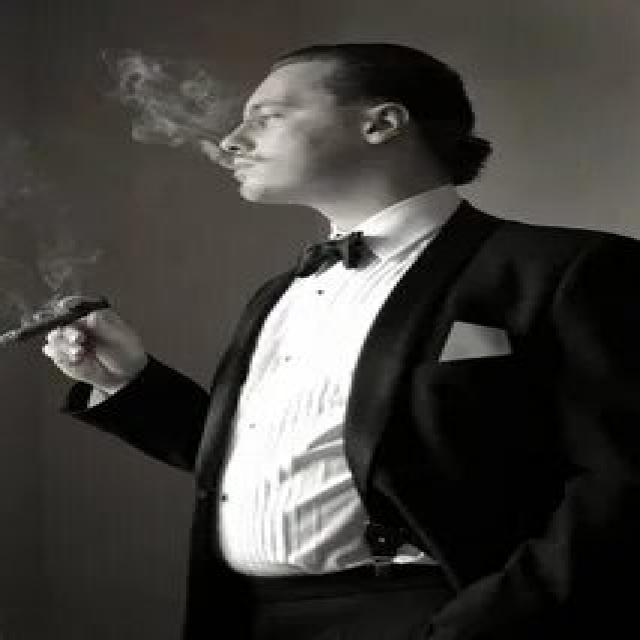smoke: (0, 292, 111, 354)
